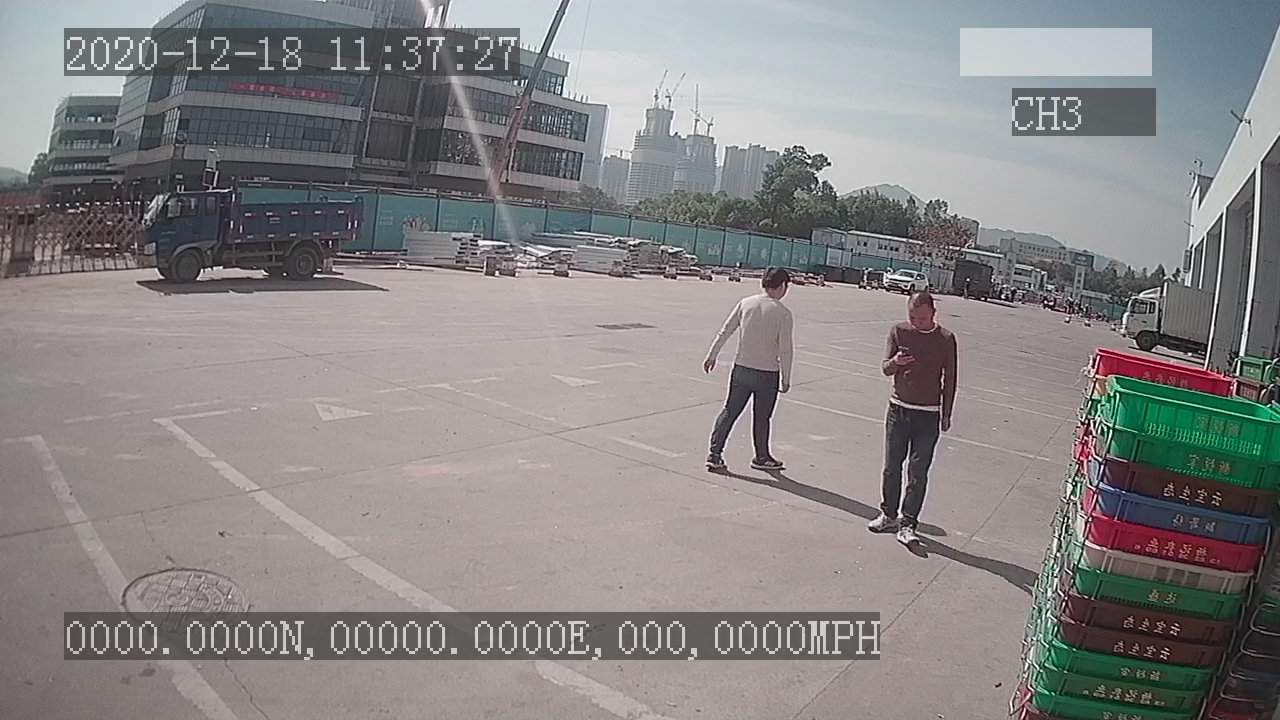person: (863, 289, 965, 557), (697, 263, 804, 485)
